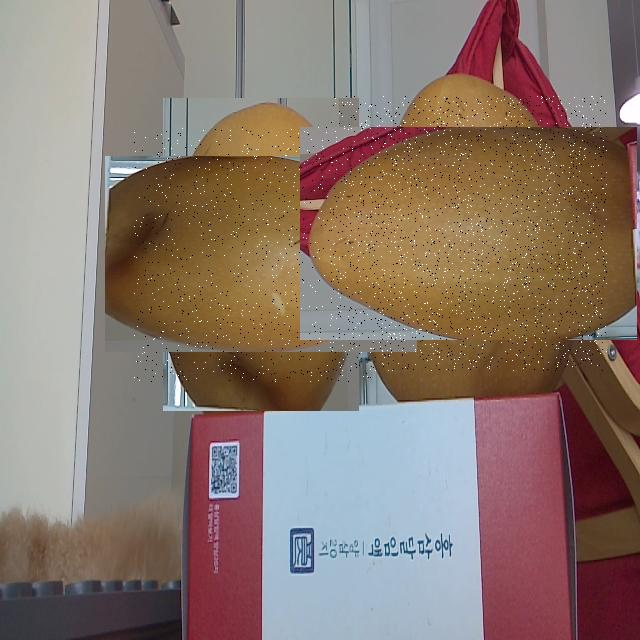pear: (331, 96, 607, 371), (134, 127, 388, 382)
